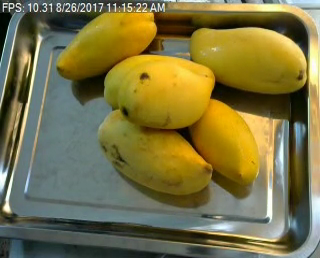Mango: (99, 110, 212, 194), (191, 24, 307, 92), (56, 6, 158, 78), (118, 60, 213, 129), (186, 98, 258, 187), (102, 51, 202, 111)
